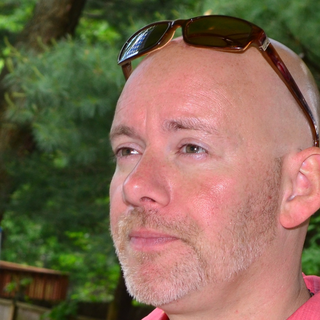eye: (171, 138, 215, 162), (109, 141, 146, 161)
